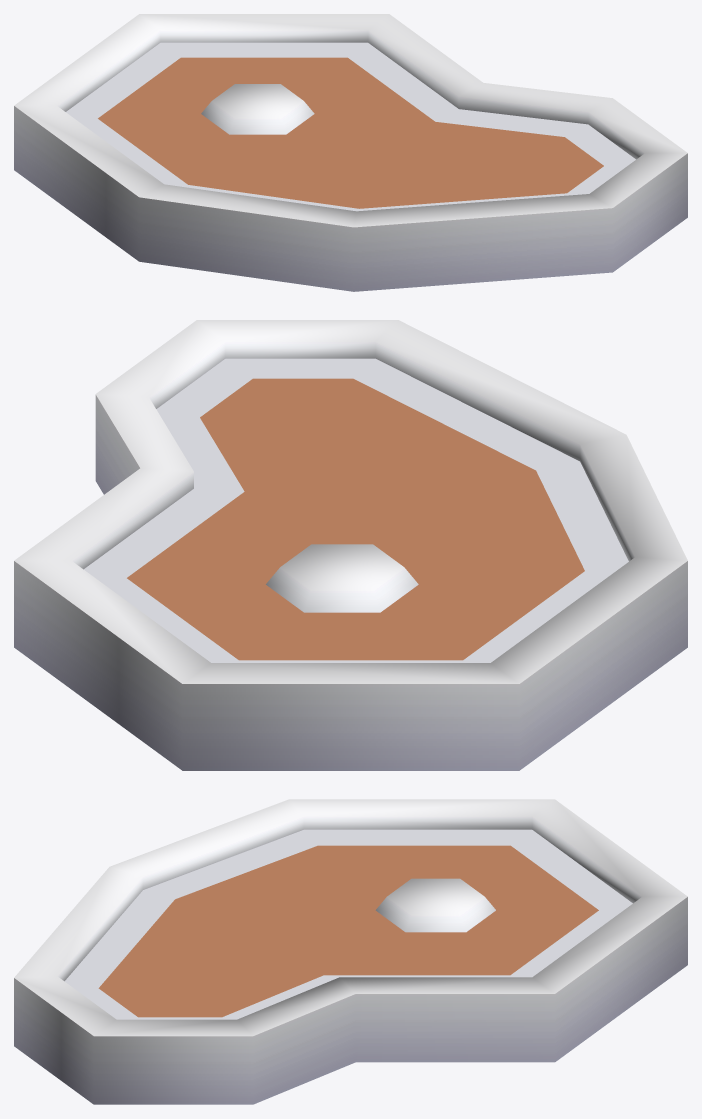
File: food.meat_raw.glb
3 renders of one model, top to bottom at view 1: azimuth 30°, elevation 25°; view 2: azimuth 150°, elevation 25°; view 3: azimuth 270°, elevation 25°, orthographic. The views are drawn at different scales.
Visible parts, largest first — view 1: meat-raw; view 2: meat-raw; view 3: meat-raw.
Boxes of the visible parts, <box> form: meat-raw: <box>14,14,687,291</box>; meat-raw: <box>14,320,687,770</box>; meat-raw: <box>14,799,687,1104</box>.
Size of the model in its own units: 0.1421 by 0.0192 by 0.1709.
1 material, 1 textured.
